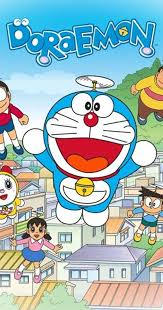doraemon: (21, 89, 158, 228)
